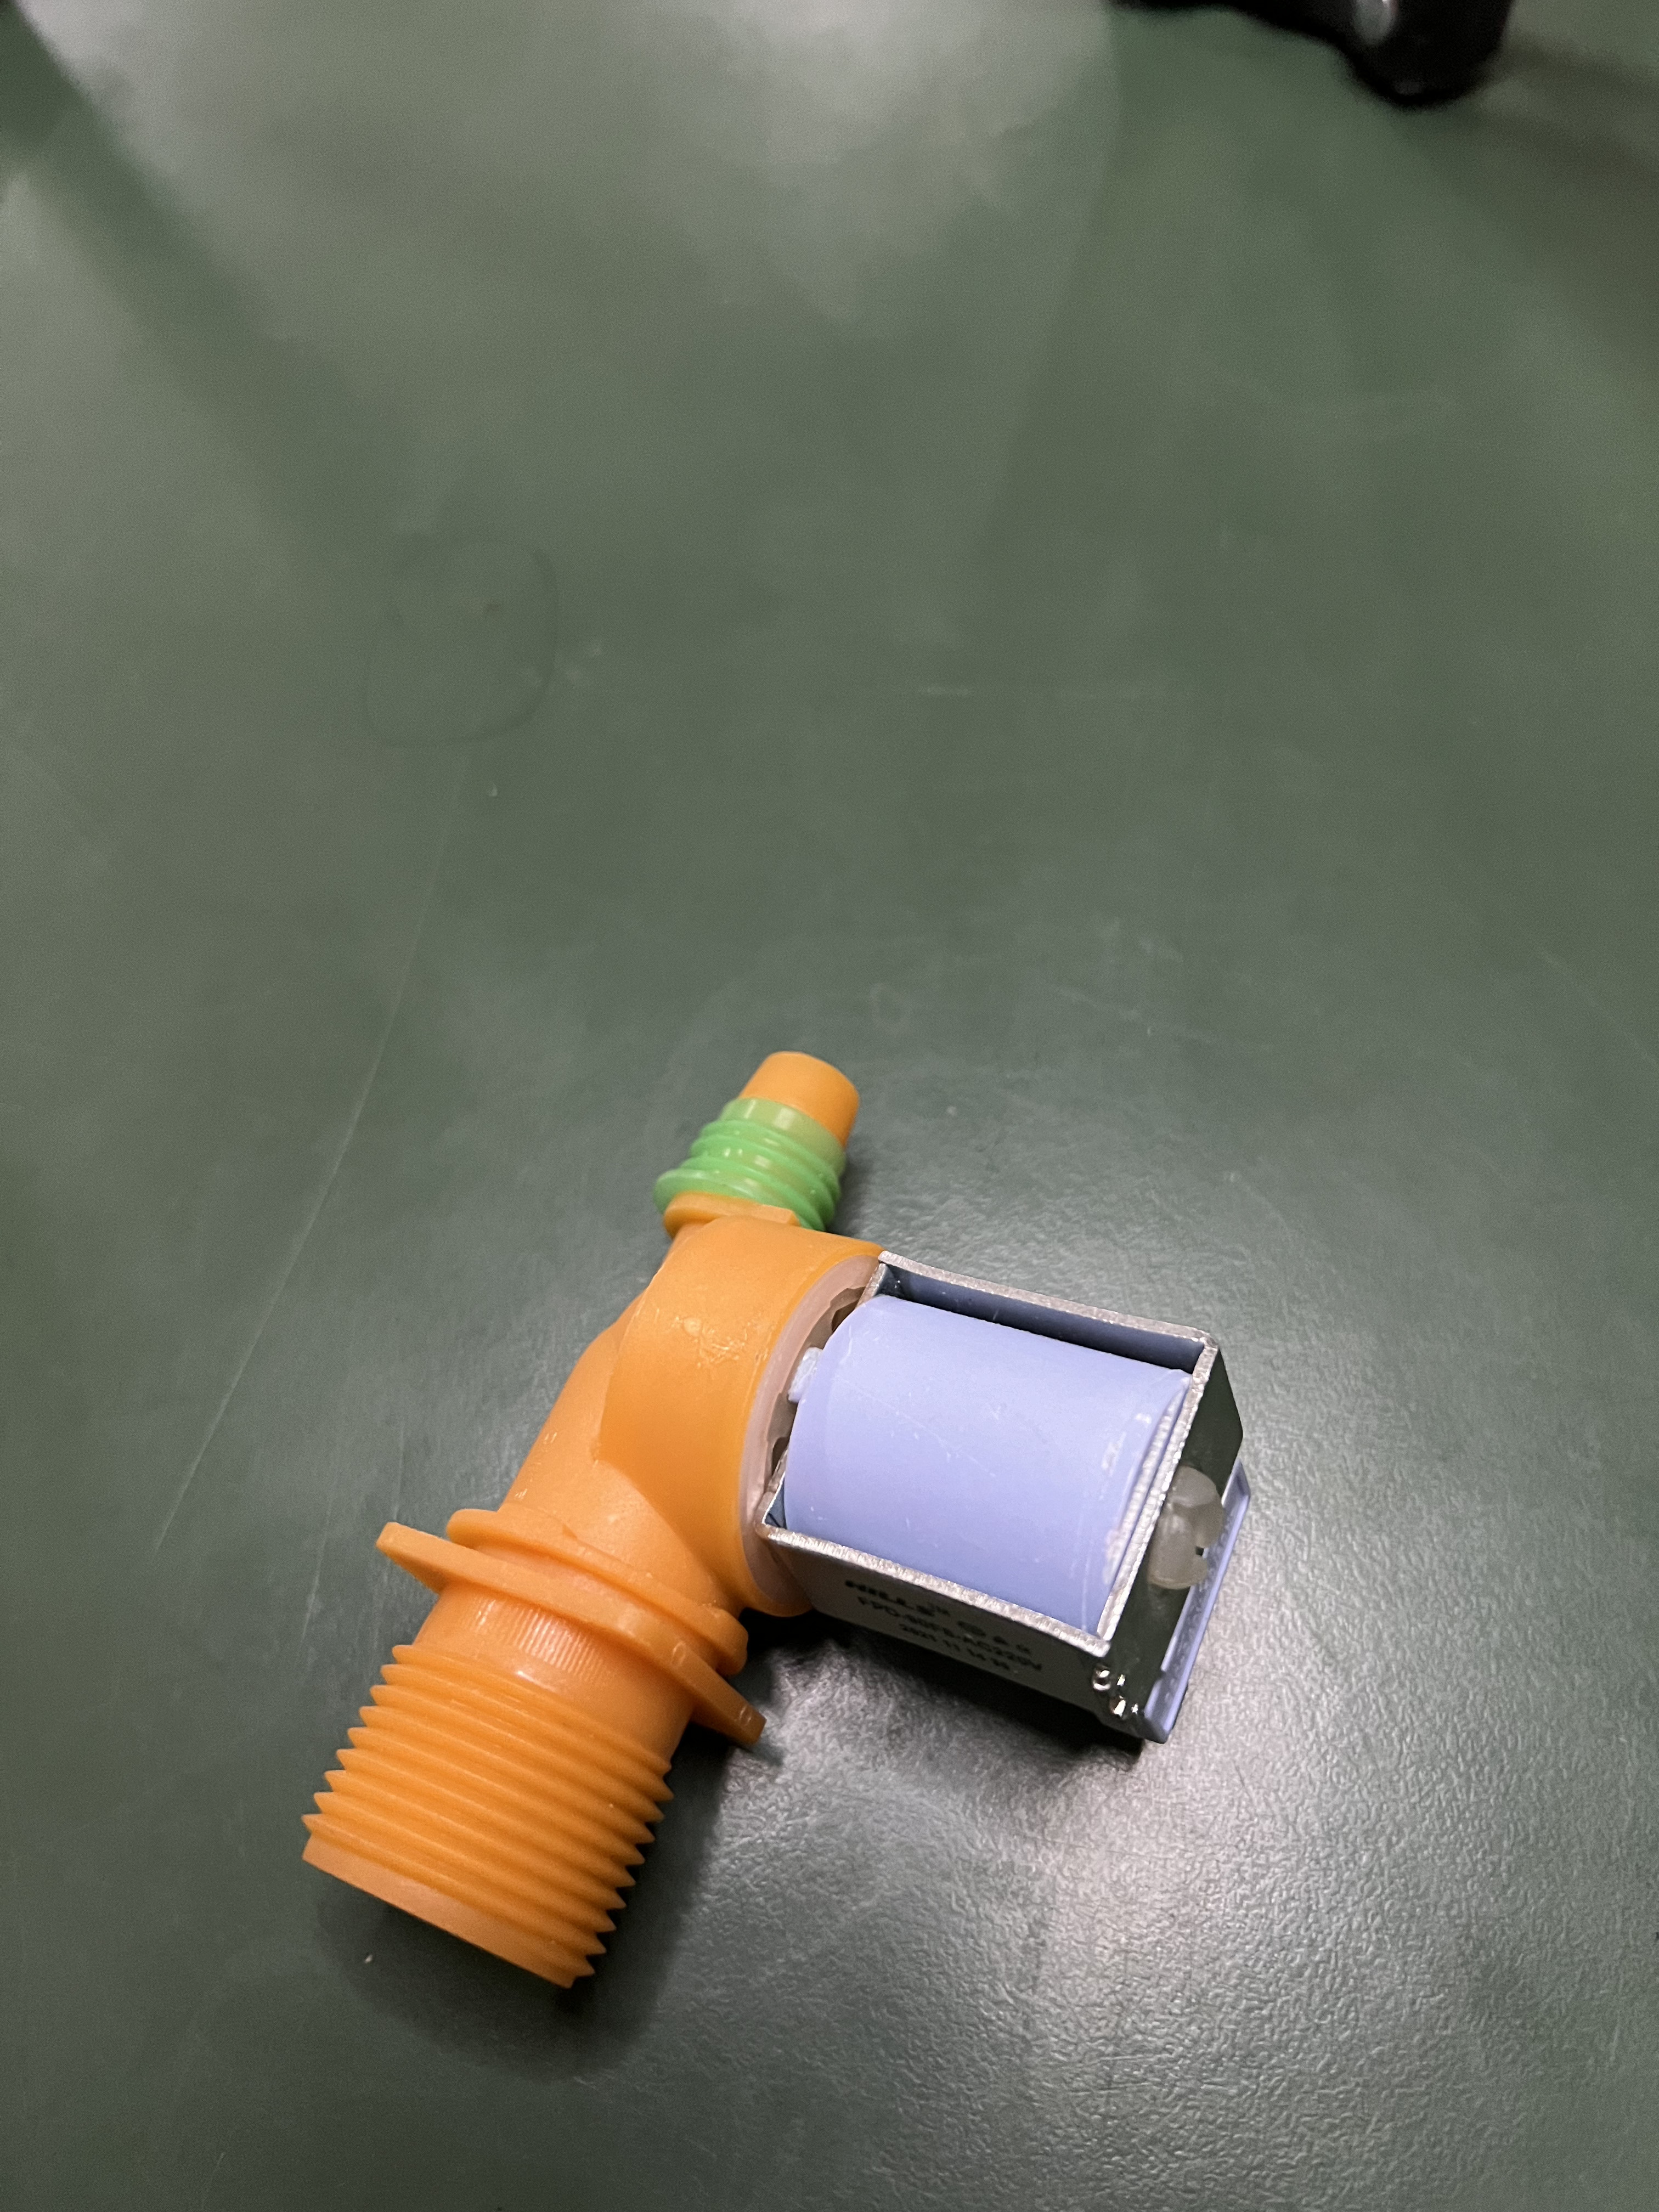ss_inlet_valves: (312, 1071, 1288, 1993)
